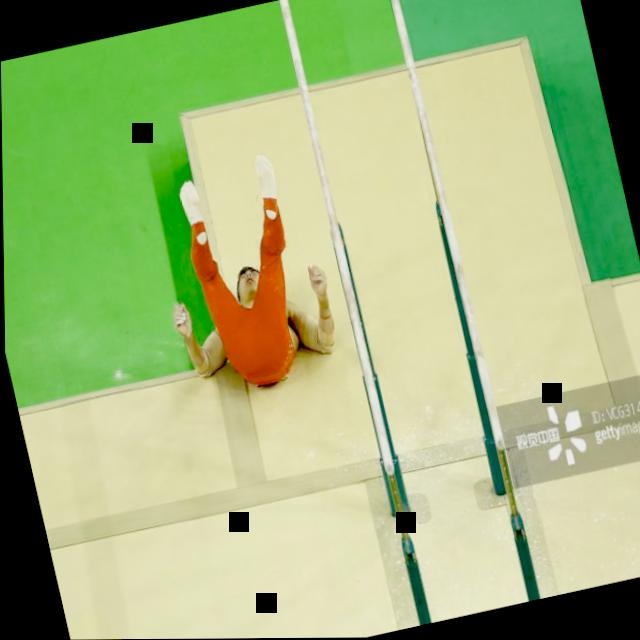Fall-Detected: (134, 130, 352, 415)
